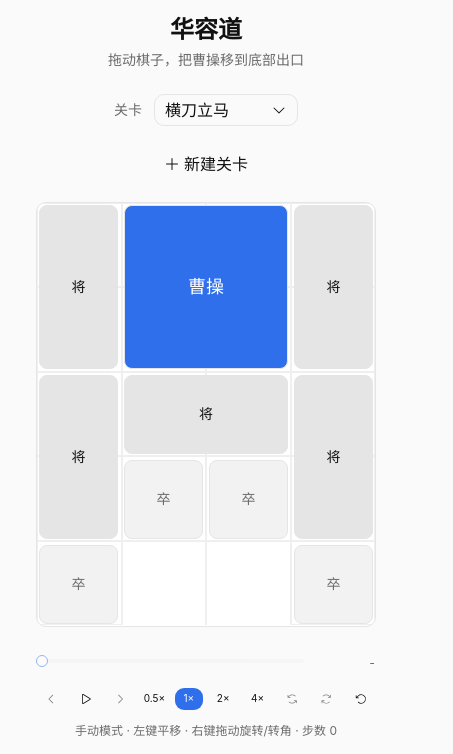
Test: 自动演示动画队列 › 关卡菜单按传统与异形关卡分成两列
Click the dropdown named "选择关卡" at x=226, y=110, box top-left (154, 94), bottom-right (298, 126)
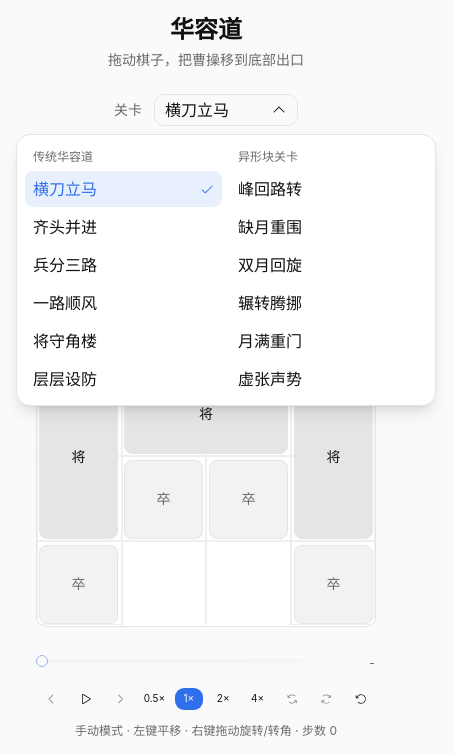
Result: the element "传统华容道" shows "横刀立马" at top-left (25, 170), bottom-right (222, 206)
Result: the element "异形块关卡" shows "月满重门" at top-left (230, 322), bottom-right (427, 358)
Result: the element "异形块关卡" shows "虚张声势" at top-left (230, 360), bottom-right (427, 396)
